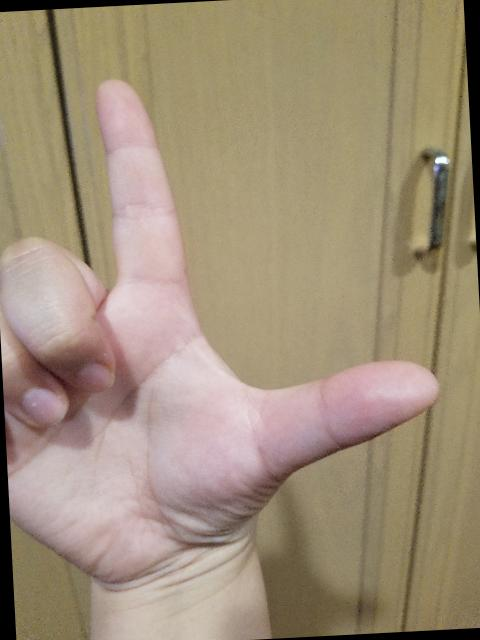L: (0, 55, 460, 605)
